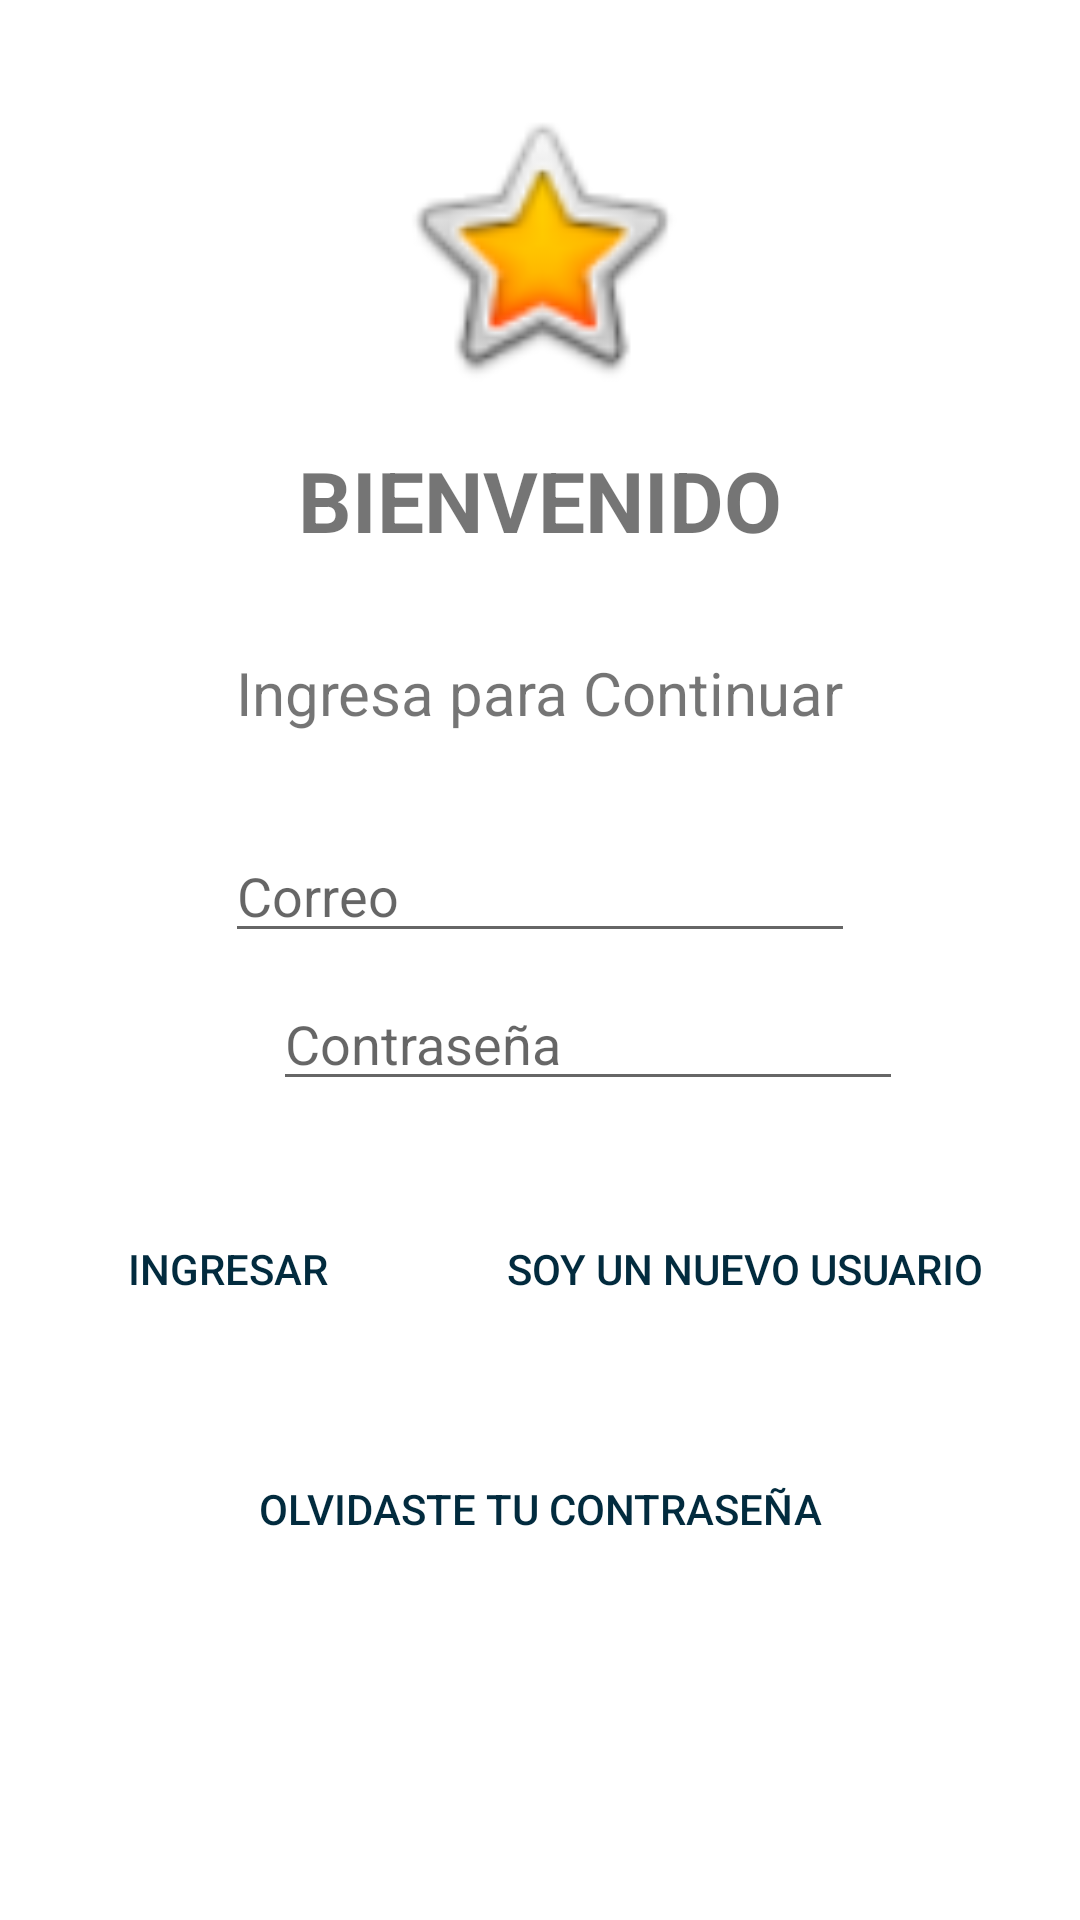

Icons on this 1080×1920 Android screen, each with its box as (x1, y1, x2, y2):
star on: (417, 126, 668, 371)
